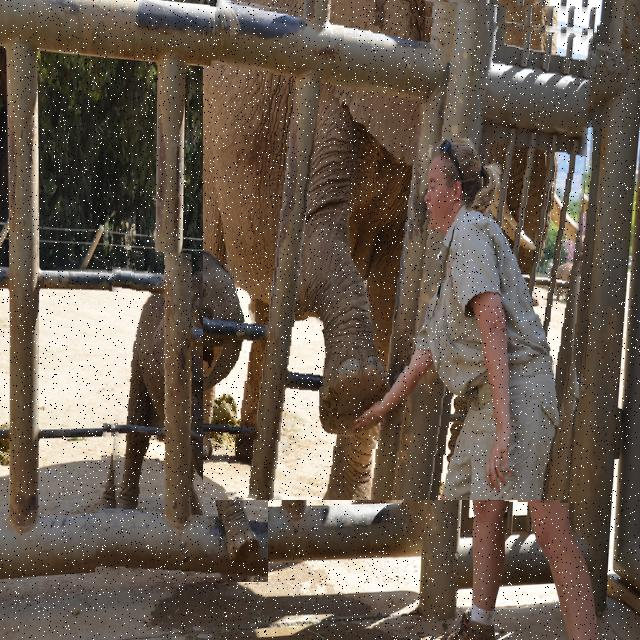elephant: (203, 0, 593, 500), (99, 252, 268, 582)
